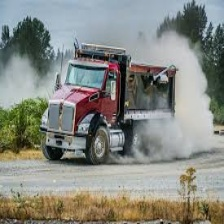smoke: (152, 37, 211, 151), (3, 51, 62, 103)
